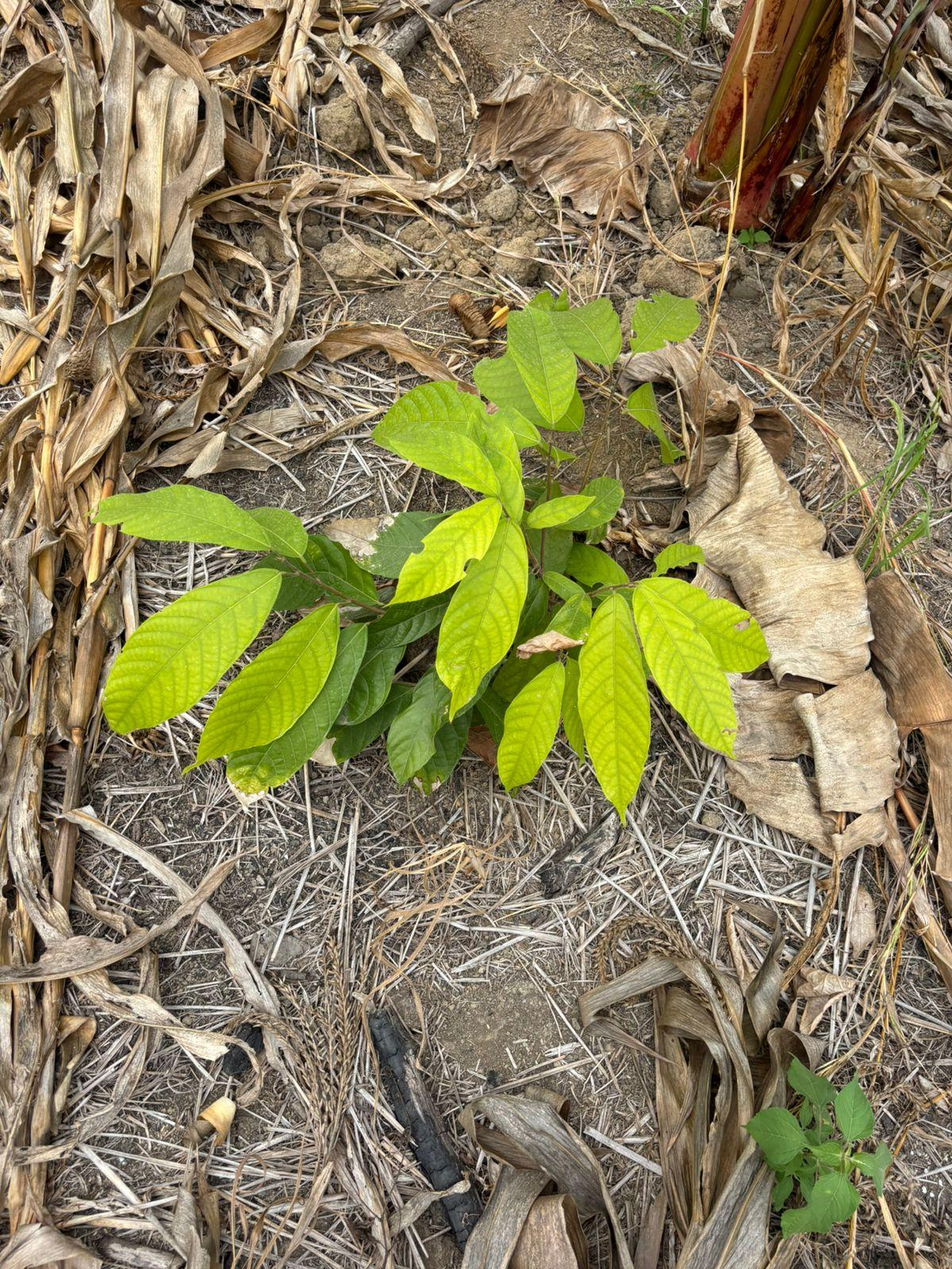deficiencia_nitrogeno: (103, 570, 279, 733), (436, 515, 528, 720), (634, 582, 735, 753), (578, 595, 650, 818)
